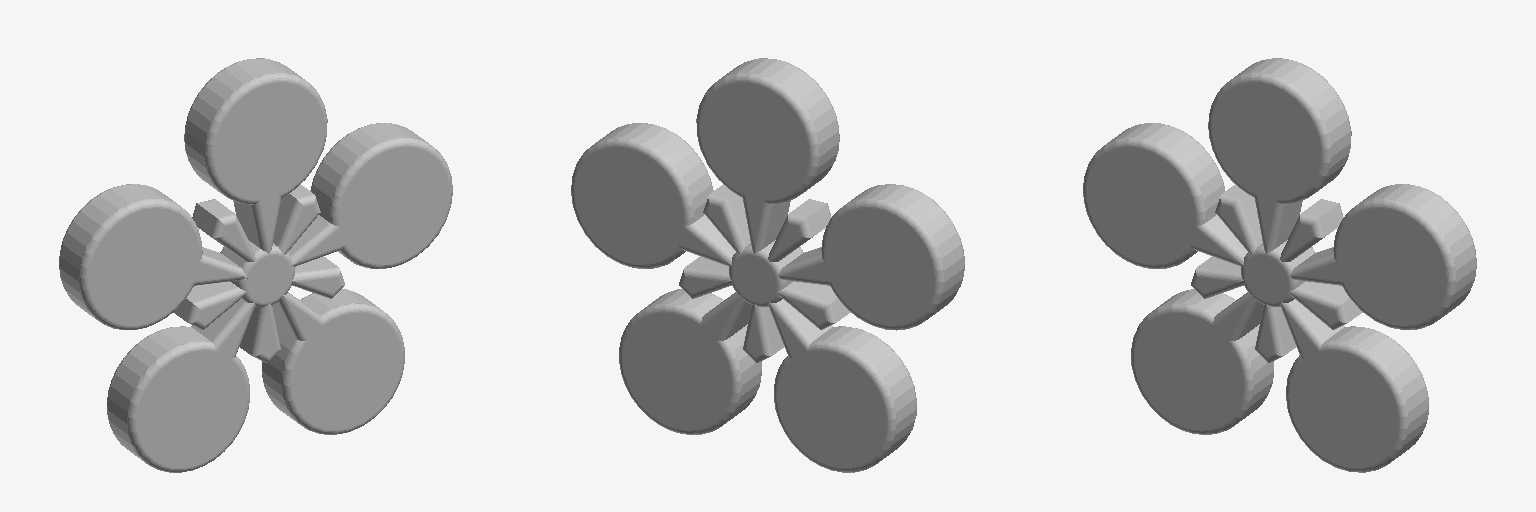
The model's file is MaedaCrest.obj.
3 renders of one model, left to right at view 1: azimuth 30°, elevation 25°; view 2: azimuth 150°, elevation 25°; view 3: azimuth 330°, elevation 25°, orthographic.
Visible parts, largest first — view 1: Body2; view 2: Body2; view 3: Body2.
Part boxes in pixels (bbox=[...]): Body2: bbox=[59, 58, 452, 472]; Body2: bbox=[571, 58, 964, 472]; Body2: bbox=[1083, 58, 1476, 472].
Size of the model in its own units: 5.24 by 5.07 by 0.649.